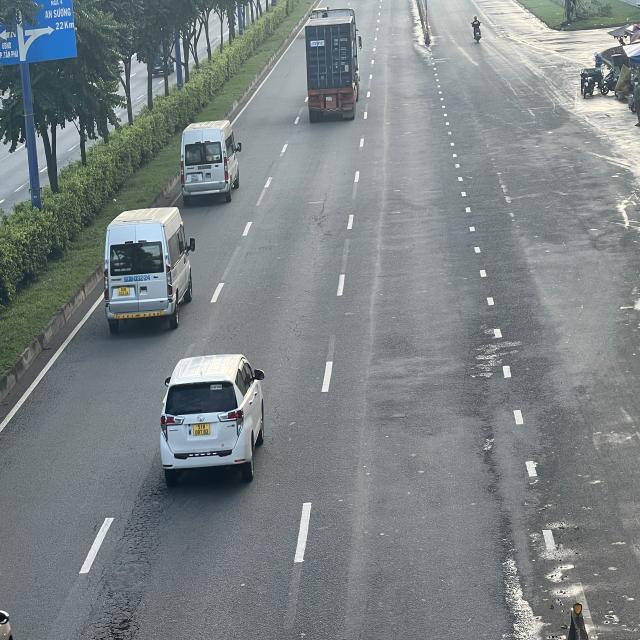car: (160, 356, 269, 482)
container: (304, 7, 360, 123)
van: (103, 207, 196, 333), (181, 119, 243, 203)
